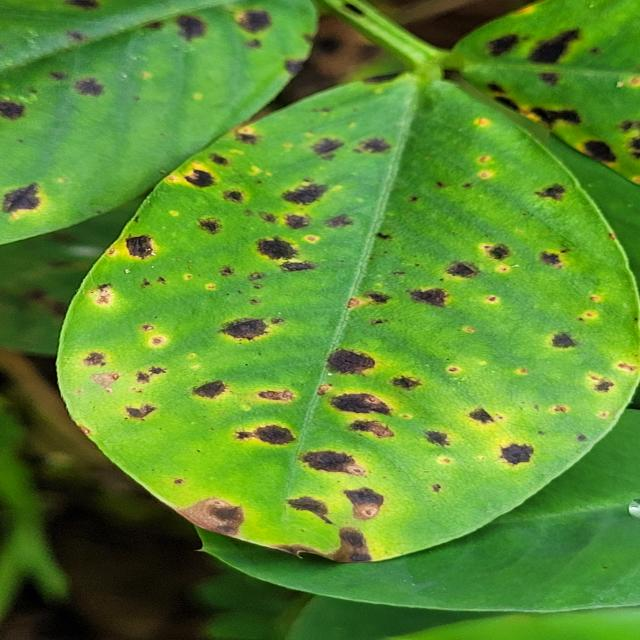Ground nut_tikka leaf spot: (53, 77, 640, 554), (6, 3, 321, 241), (457, 0, 640, 181)
